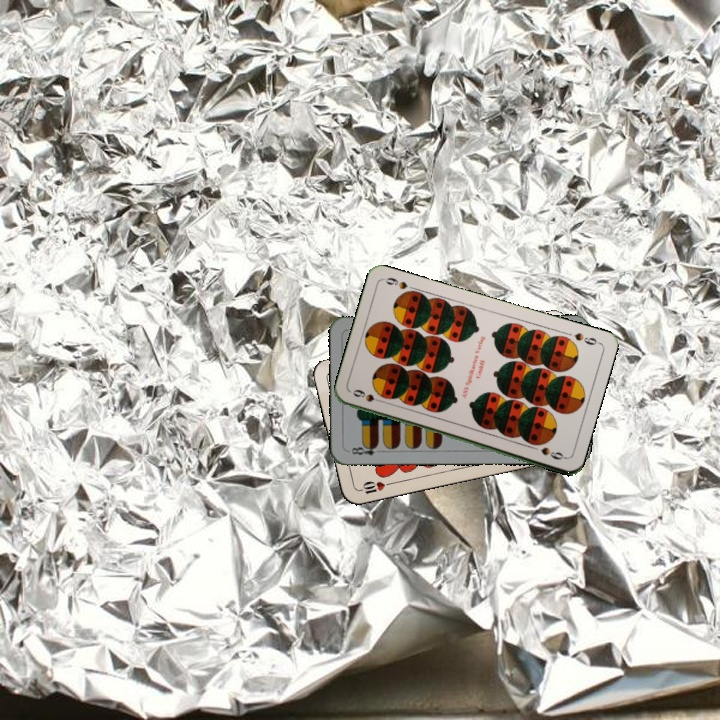E8: (347, 441, 386, 458)
H10: (354, 477, 394, 497)
S9: (349, 386, 388, 406), (570, 329, 602, 348)
